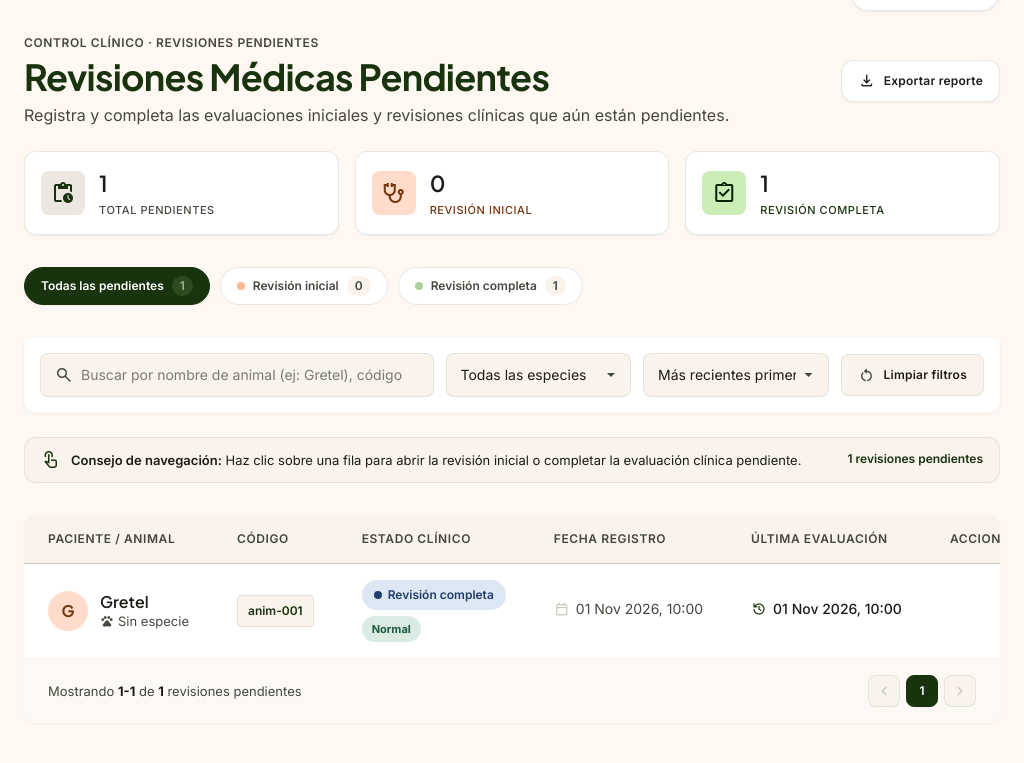
Test: RegistroMedicoPage › muestra el diseño completo en un modal al abrir una revisión completa pendiente
(page scrolled)
Click the button with aria-label "Ver ficha médica de Gretel anim-001": (68, 611) [24,563,1023,658]
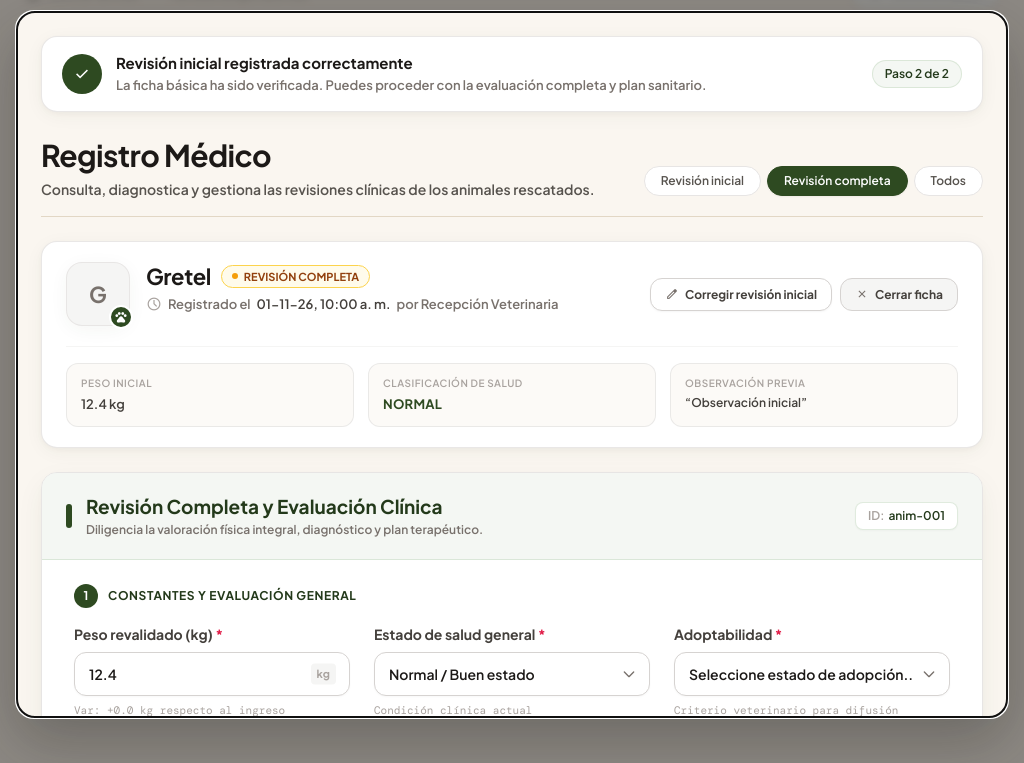
Result: the heading "Revisión inicial registrada correctamente" is shown at [116,53,413,72]
Result: the text "Paso 2 de 2" is shown at [872,60,962,88]
Result: the heading "Revisión Completa y Evaluación Clínica" is shown at [86,493,483,519]
